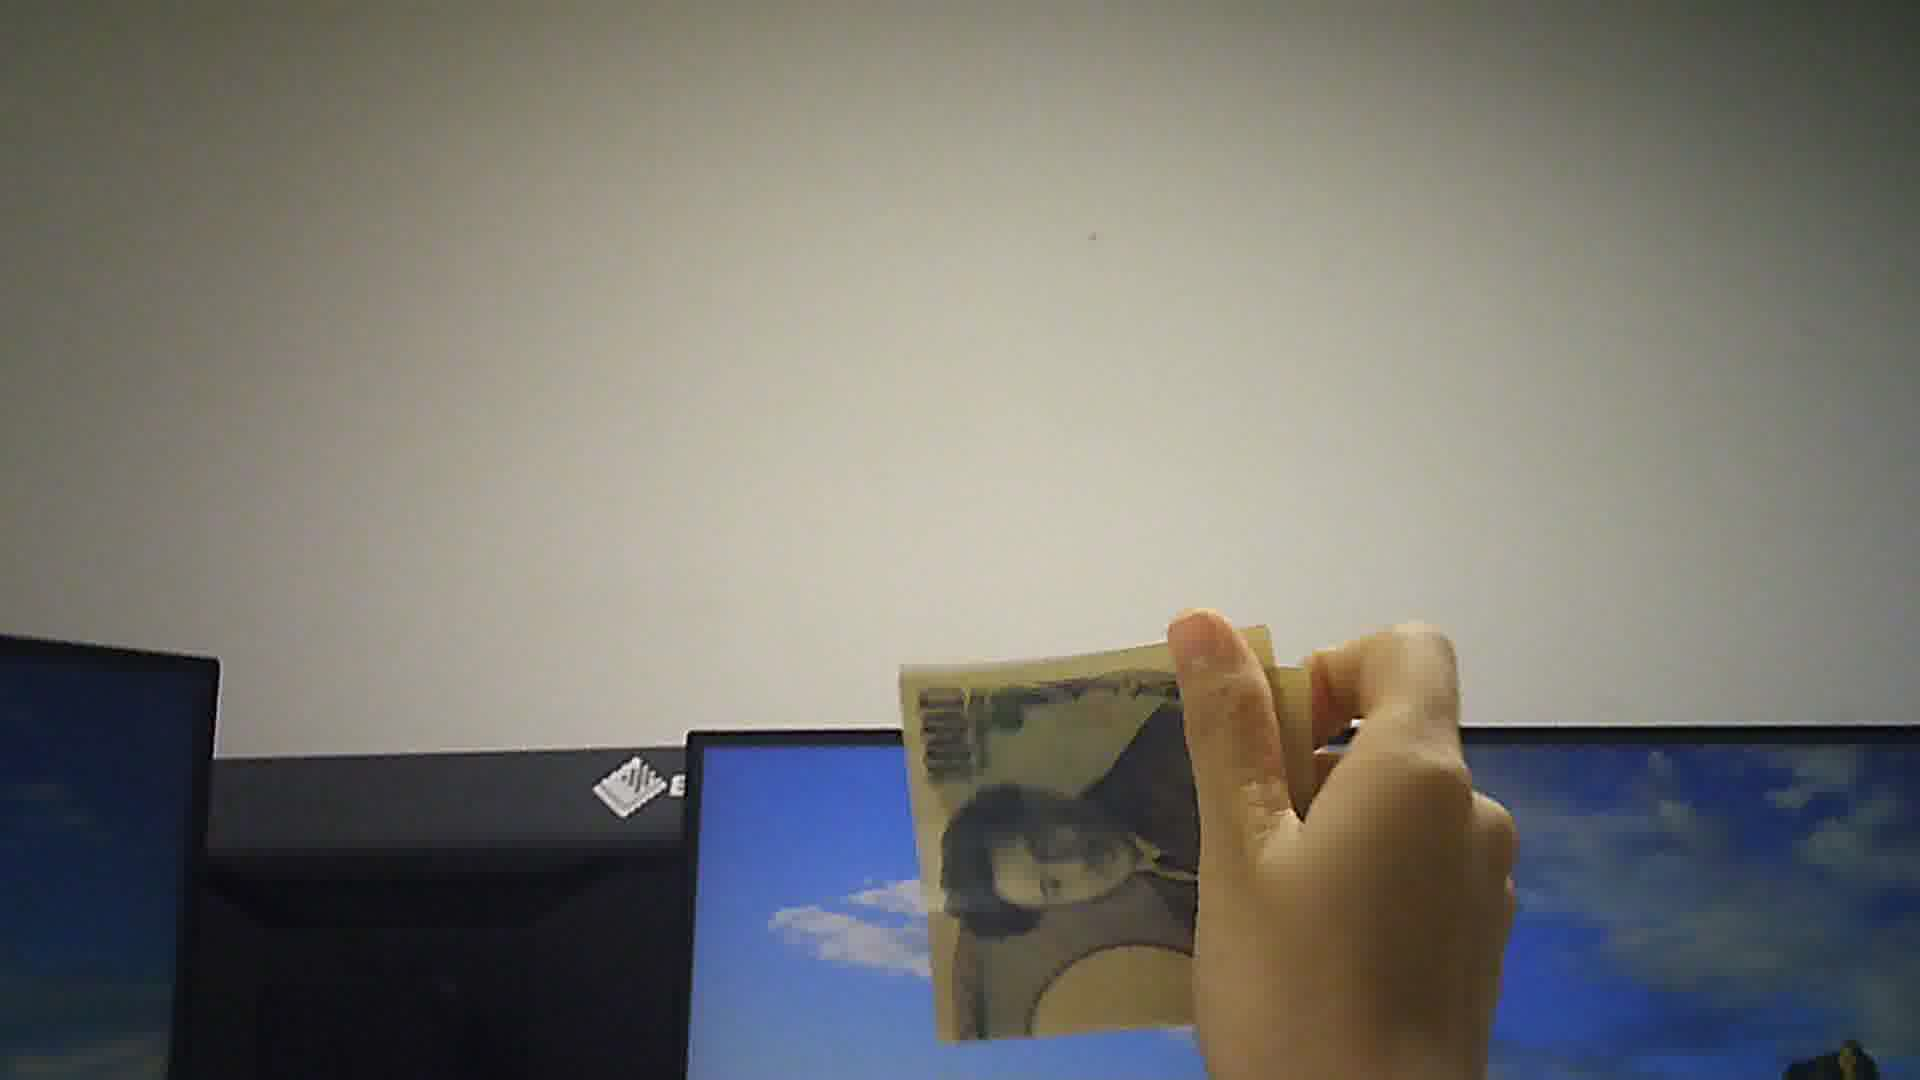1,000 Yen: (886, 649, 1352, 1038)
